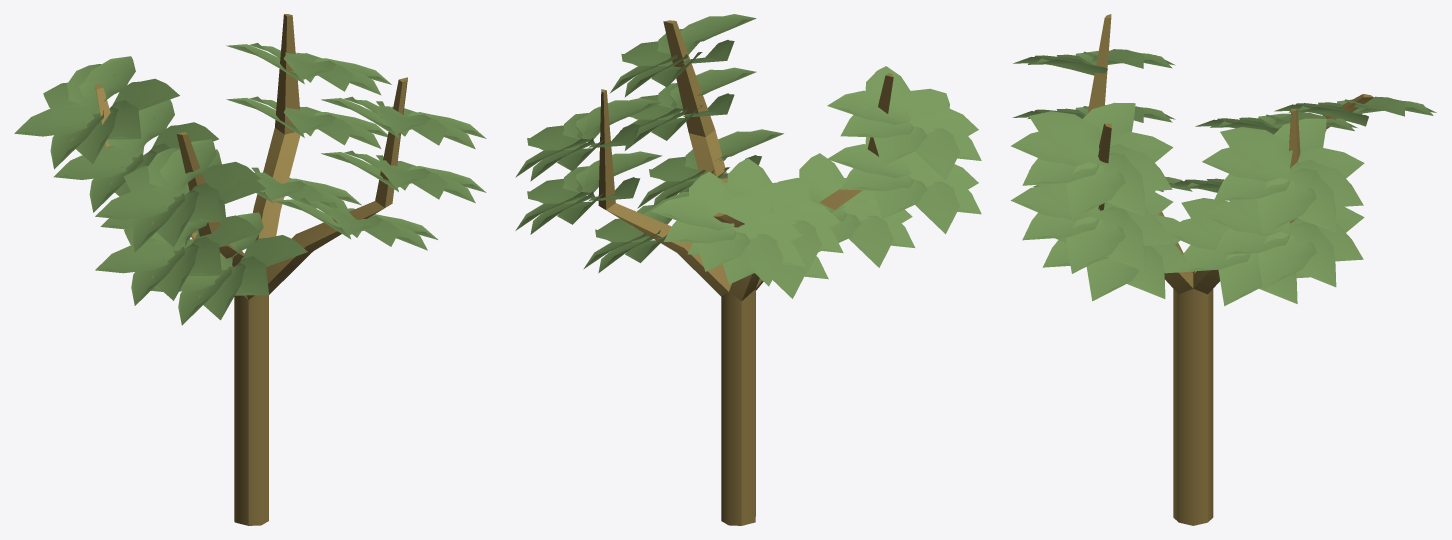
Rendered from Murture_Apple_Tree.fbx.
3 renders of one model, left to right at view 1: azimuth 30°, elevation 25°; view 2: azimuth 150°, elevation 25°; view 3: azimuth 270°, elevation 25°, orthographic.
Parts seen in each view (by area): view 1: Mutrue_Apple_Tree; view 2: Mutrue_Apple_Tree; view 3: Mutrue_Apple_Tree.
Boxes of the visible parts, x1,y1,x2,y2 form: Mutrue_Apple_Tree: (14,14,486,525); Mutrue_Apple_Tree: (515,14,981,525); Mutrue_Apple_Tree: (1011,14,1436,525).
Size of the model in its own units: 10.49 by 12.47 by 10.72.
